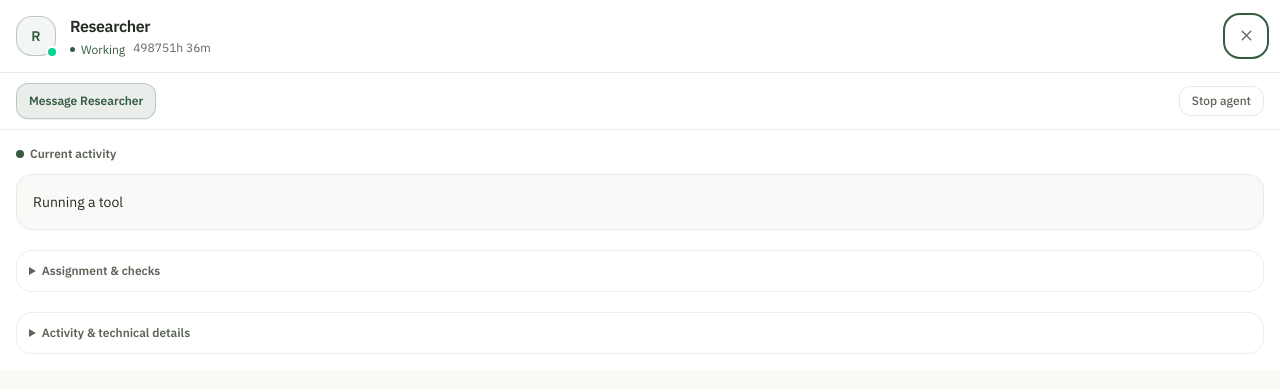
worker details › stops only the selected agent and waits for confirmed state
Click the button "Stop agent" at point(1221, 100), box [1179,86,1264,116]
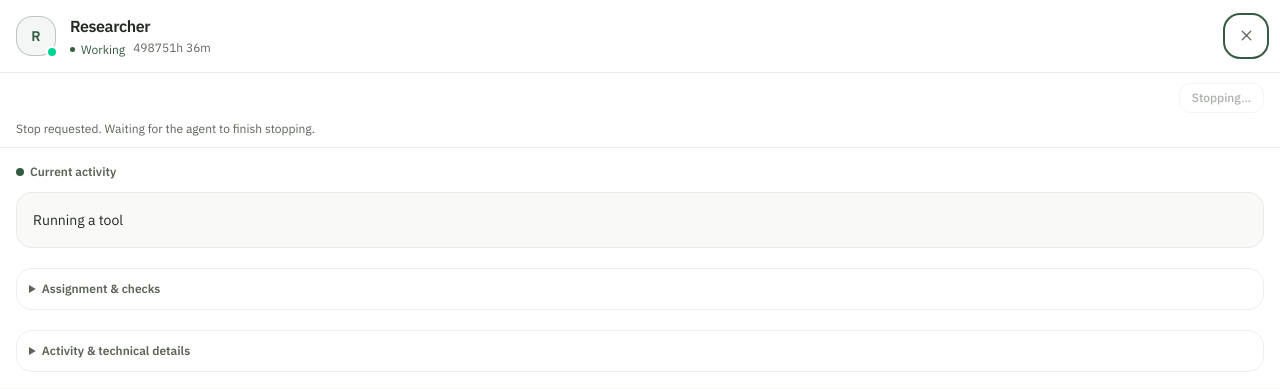
Expected: the text "Stop requested. Waiting for the agent to finish stopping." is shown, [16,120,315,136]
Expected: the button "Stopping…" is disabled, [1179,82,1264,112]
